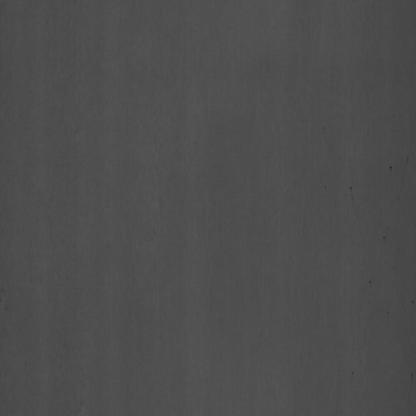inclusion: (382, 146, 400, 188), (345, 173, 358, 207)
